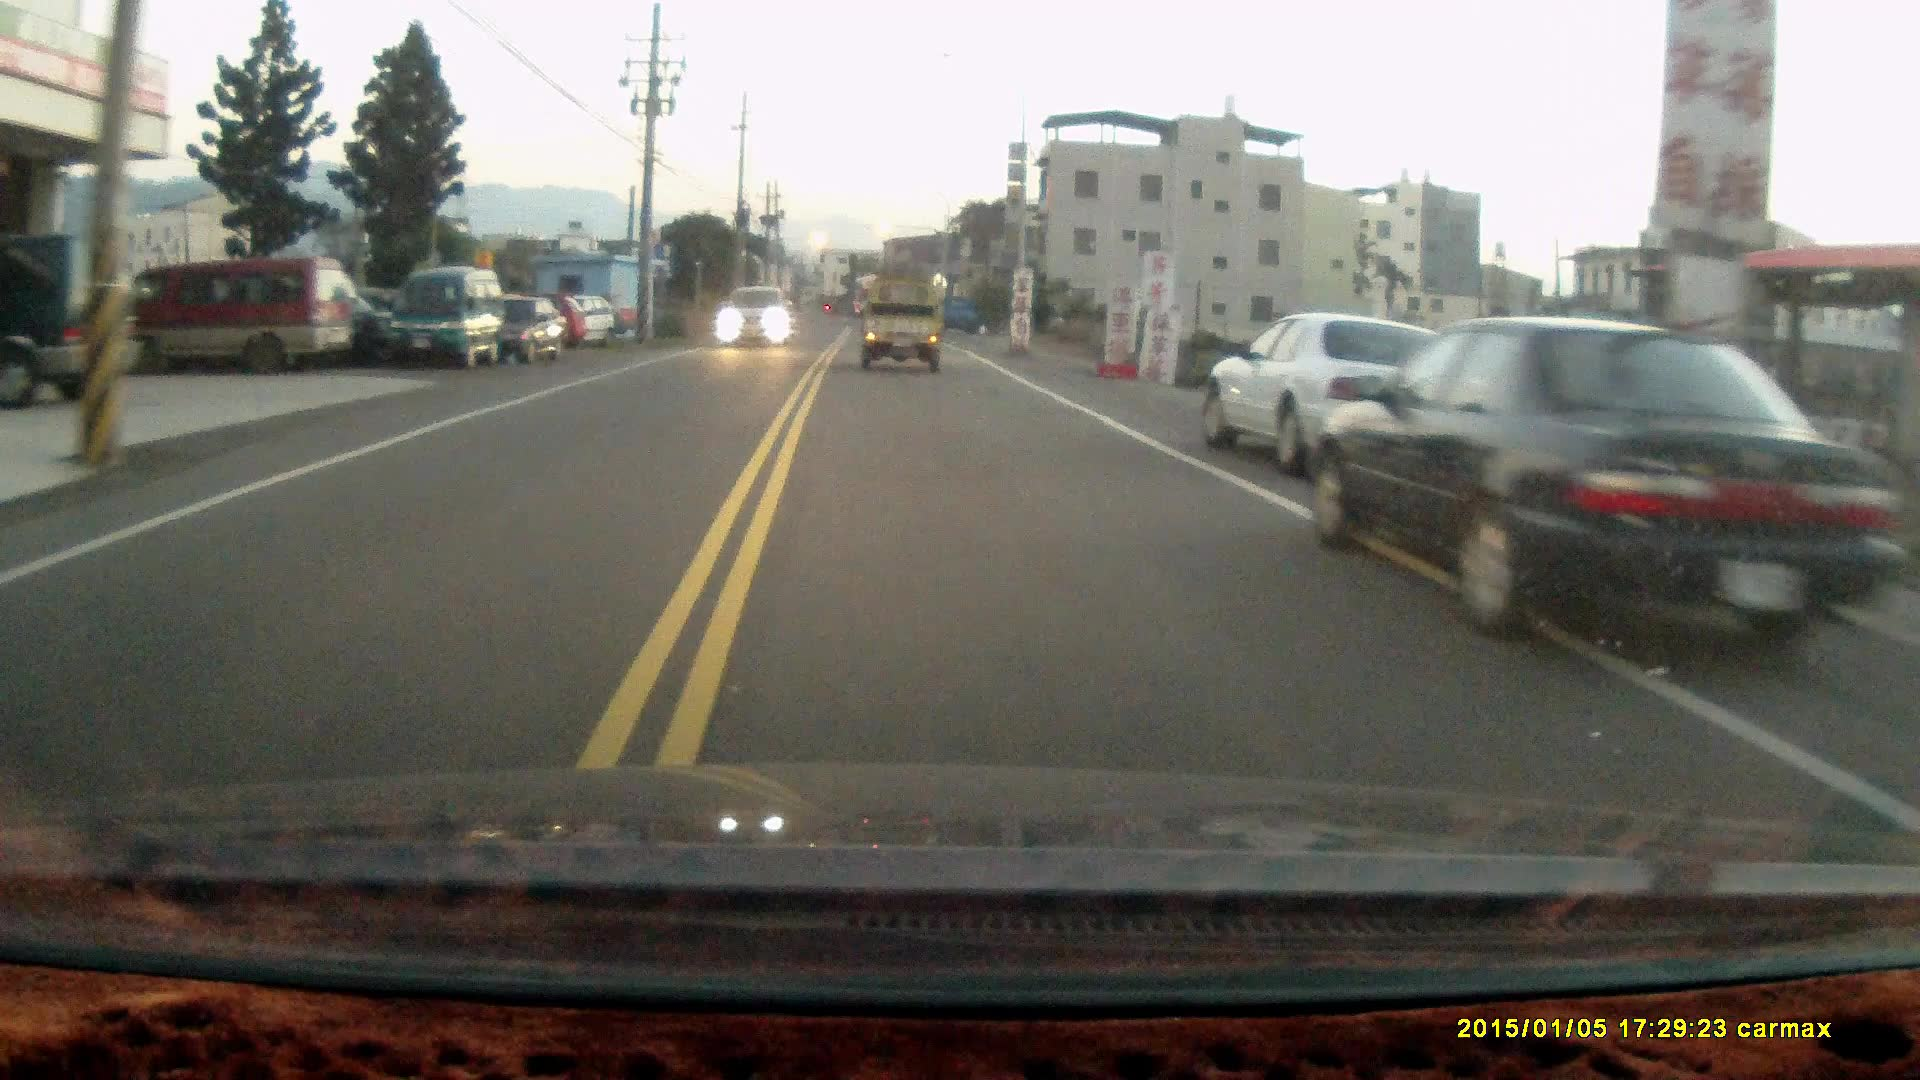vehicle: (1313, 320, 1822, 705), (1200, 316, 1447, 471), (98, 255, 359, 378), (0, 240, 149, 400), (385, 270, 508, 375), (862, 281, 943, 375), (481, 295, 567, 369), (713, 287, 793, 351)
